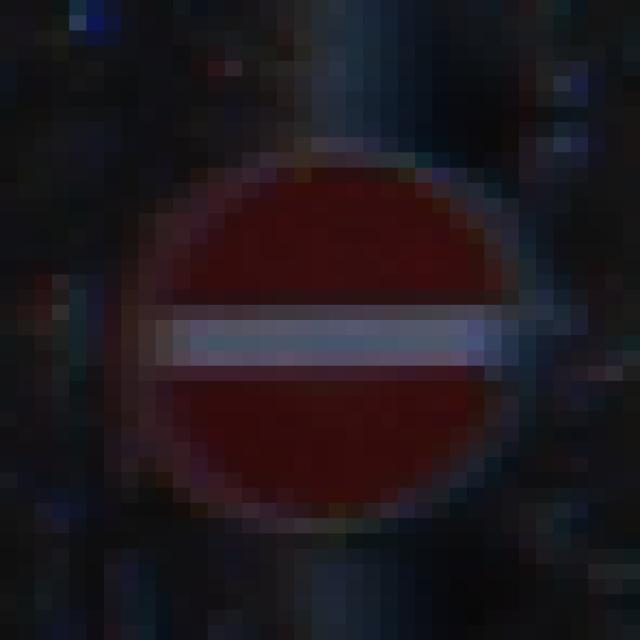No Entry: (105, 92, 554, 565)
